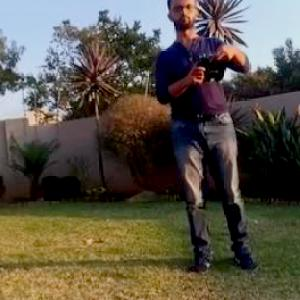follow: (149, 0, 262, 280)
